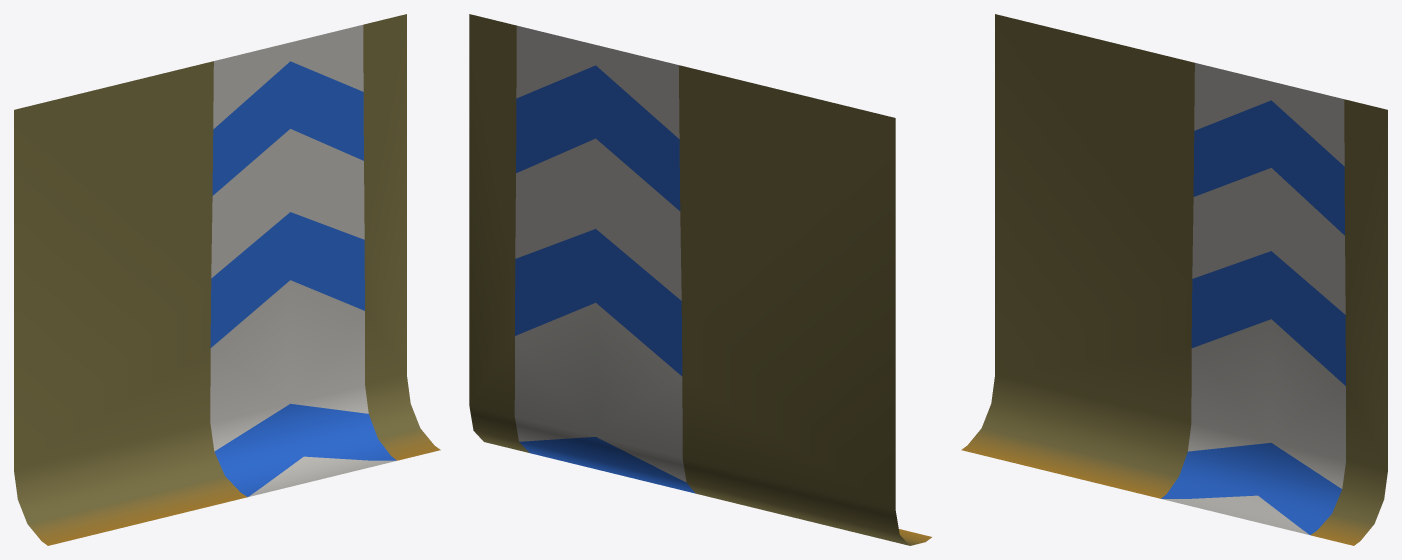
Rendered from Base_RoadWallSide.fbx.
The picture shows the model from 3 angles, left to right: view 1: azimuth 30°, elevation 25°; view 2: azimuth 150°, elevation 25°; view 3: azimuth 330°, elevation 25°; orthographic projection. The views are drawn at different scales.
Parts seen in each view (by area): view 1: Base_RoadWallSide; view 2: Base_RoadWallSide; view 3: Base_RoadWallSide.
Boxes of the visible parts, x1=… form: Base_RoadWallSide: x1=14, y1=14, x2=440, y2=545; Base_RoadWallSide: x1=469, y1=14, x2=931, y2=545; Base_RoadWallSide: x1=961, y1=14, x2=1387, y2=545.
Bounding box in the file's own units: 2000 × 2000 × 300.
